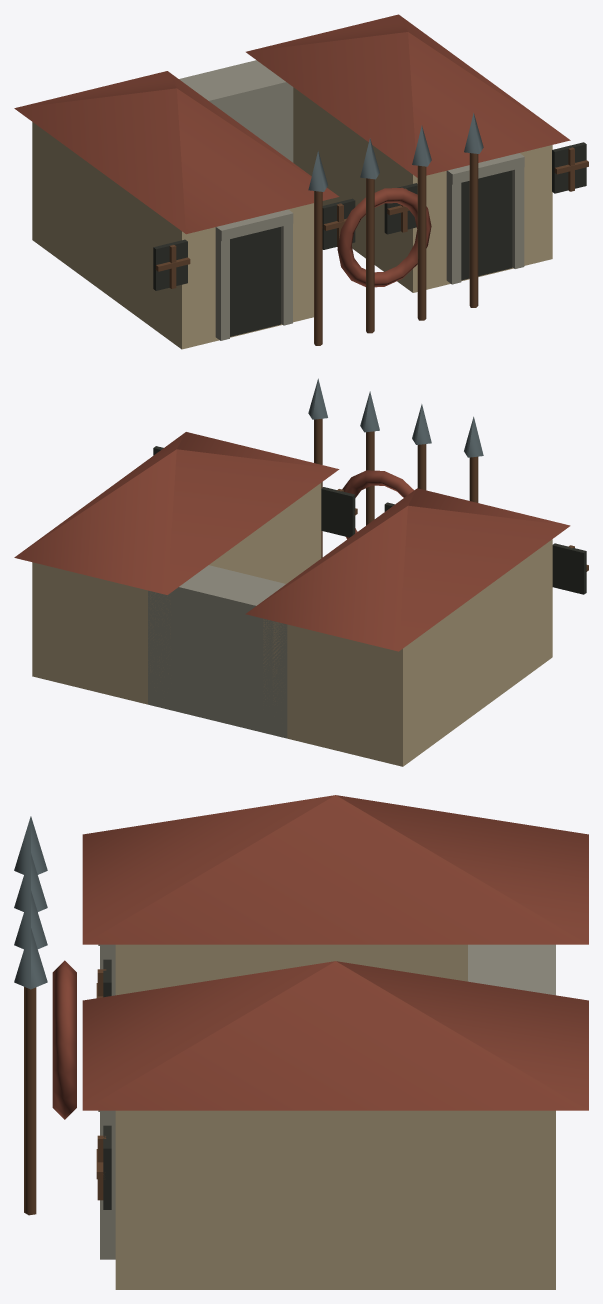
The model's file is custom-cb-barracks.glb.
The picture shows the model from 3 angles, top to bottom: view 1: azimuth 30°, elevation 25°; view 2: azimuth 150°, elevation 25°; view 3: azimuth 270°, elevation 25°; orthographic projection. The views are drawn at different scales.
Visible parts, largest first — view 1: custom-cb-barracks; view 2: custom-cb-barracks; view 3: custom-cb-barracks.
Part boxes in pixels (box(x1,y1,x2,y2)): custom-cb-barracks: box(14, 14, 588, 349); custom-cb-barracks: box(14, 378, 588, 766); custom-cb-barracks: box(14, 795, 588, 1289).
Bounding box in the file's own units: 1 × 0.4306 × 0.7859.
